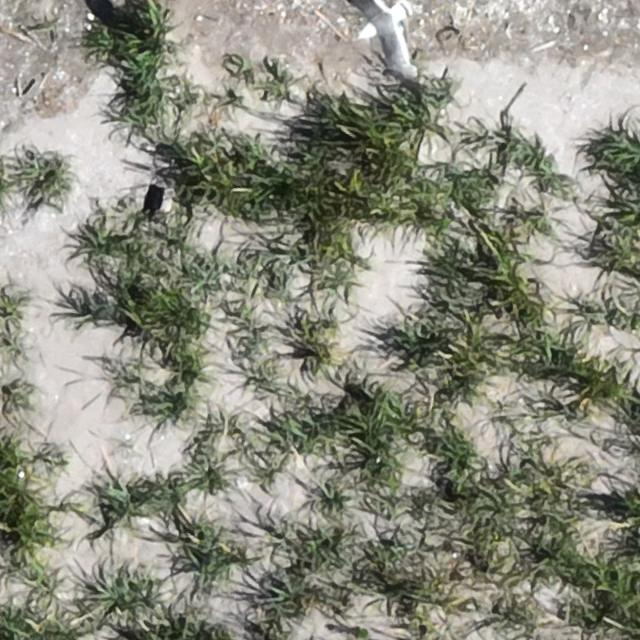F: (350, 3, 416, 69)
